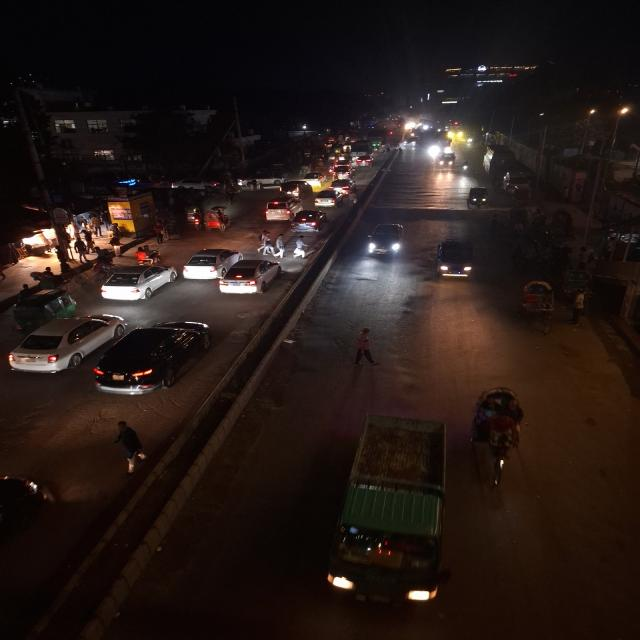bus: (351, 140, 379, 167)
car: (90, 317, 218, 398), (5, 310, 126, 378), (0, 467, 57, 608), (96, 262, 178, 304), (216, 256, 285, 299), (432, 235, 478, 282), (363, 220, 411, 262), (180, 246, 238, 280), (261, 195, 301, 223), (289, 210, 329, 234), (312, 188, 346, 208), (278, 178, 314, 196), (330, 178, 358, 194), (437, 152, 456, 170), (302, 172, 326, 186), (330, 165, 353, 179)
cng: (323, 410, 462, 616), (8, 288, 76, 330), (500, 168, 537, 204), (465, 186, 492, 211)
motorcycle: (290, 236, 312, 264), (133, 244, 162, 265), (460, 162, 471, 174)
pedestrian: (342, 324, 384, 374), (113, 422, 148, 478), (256, 231, 276, 256), (275, 233, 288, 257), (250, 178, 258, 192)
rickshaw: (466, 384, 532, 494), (516, 278, 558, 337), (560, 259, 596, 327), (20, 228, 60, 259), (204, 206, 235, 234), (182, 206, 206, 230)
